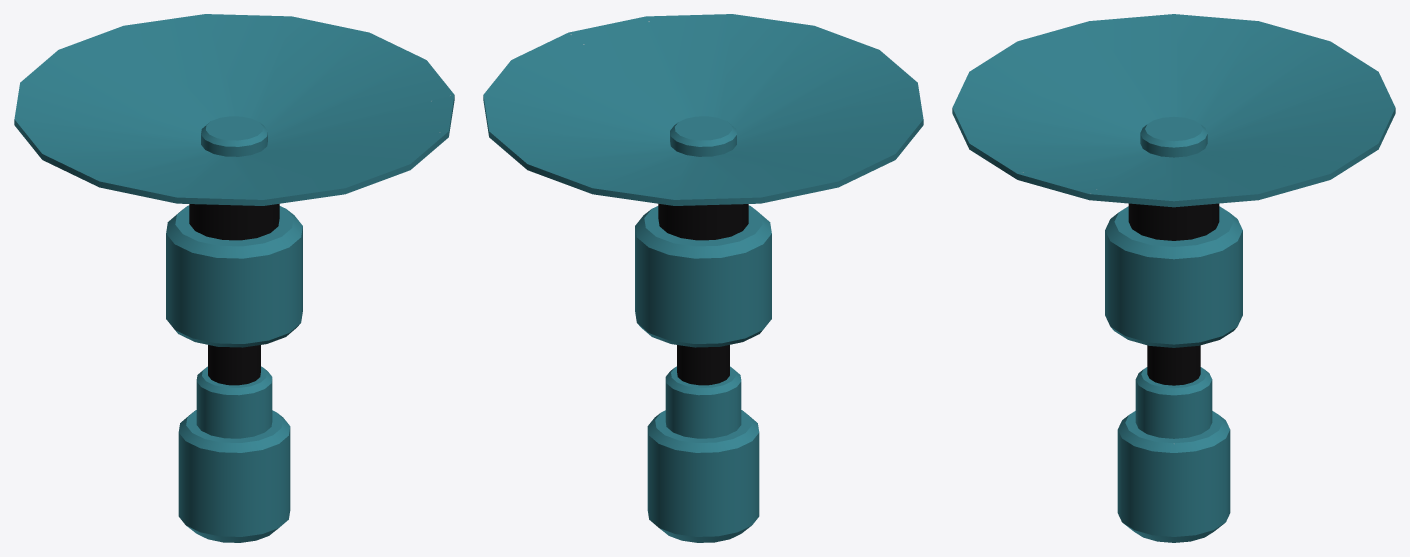
The model's file is Satelite.fbx.
The picture shows the model from 3 angles, left to right: view 1: azimuth 30°, elevation 25°; view 2: azimuth 150°, elevation 25°; view 3: azimuth 270°, elevation 25°; orthographic projection.
Parts seen in each view (by area): view 1: Cilindro; view 2: Cilindro; view 3: Cilindro.
Boxes of the visible parts, x1,y1,x2,y2 form: Cilindro: [14, 14, 454, 542]; Cilindro: [483, 14, 923, 542]; Cilindro: [952, 14, 1395, 542].
Bounding box in the file's own units: 788 × 819 × 788.
1 material, 1 textured.
